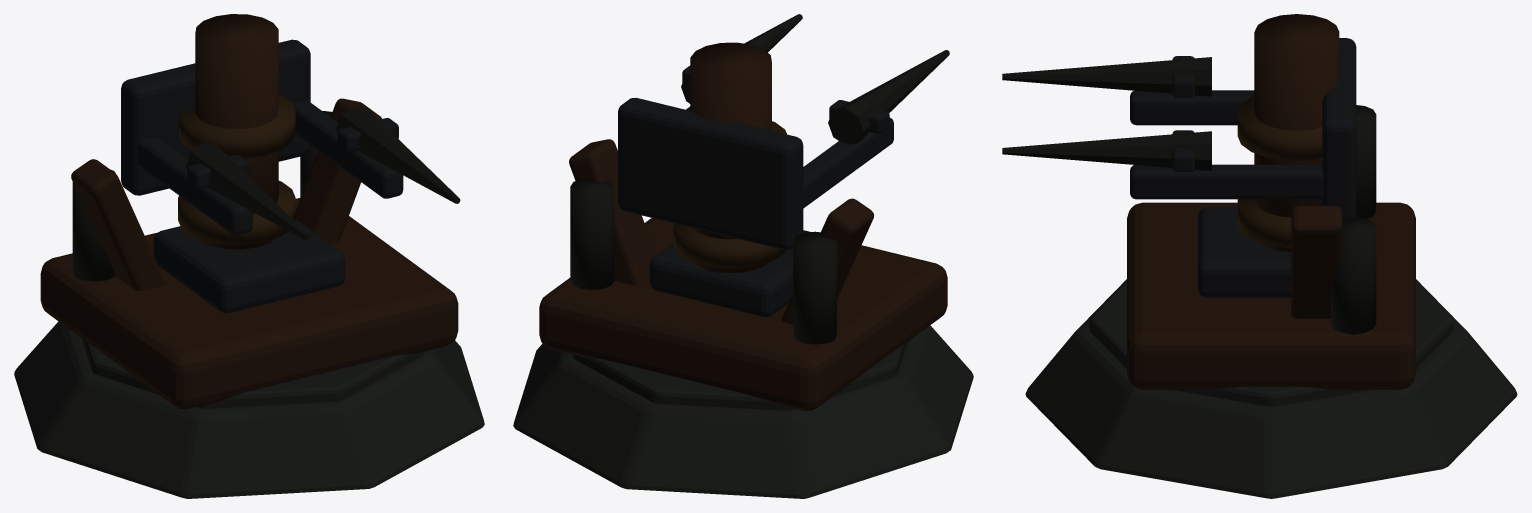
File: TowerAir2_pose.obj
3 renders of one model, left to right at view 1: azimuth 30°, elevation 25°; view 2: azimuth 150°, elevation 25°; view 3: azimuth 270°, elevation 25°, orthographic. The views are drawn at different scales.
Parts seen in each view (by area): view 1: cut_stone_socket_lower_course, oak_sky_platform, iron_mast_socket, oak_launch_mast, iron_wind_shroud, oak_angled_stay, cut_stone_socket_upper_course, oak_angled_stay.001, iron_sky_rail, bronze_guide_collar.001, iron_sky_rail.001, sky_lance.001 (+5 smaller); view 2: cut_stone_socket_lower_course, oak_sky_platform, iron_wind_shroud, oak_launch_mast, iron_mast_socket, cut_stone_socket_upper_course, reserve_lance_tube.001, reserve_lance_tube, oak_angled_stay.001, sky_lance, iron_sky_rail, bronze_guide_collar (+3 smaller); view 3: cut_stone_socket_lower_course, oak_sky_platform, oak_launch_mast, iron_sky_rail.001, iron_mast_socket, cut_stone_socket_upper_course, oak_angled_stay.001, iron_wind_shroud, reserve_lance_tube.001, sky_lance, sky_lance.001, iron_sky_rail (+5 smaller).
Part boxes in pixels (bbox=[...]): cut_stone_socket_lower_course: bbox=[14, 321, 484, 498]; oak_sky_platform: bbox=[40, 198, 458, 408]; iron_mast_socket: bbox=[153, 219, 345, 313]; oak_launch_mast: bbox=[195, 14, 278, 249]; iron_wind_shroud: bbox=[121, 39, 310, 195]; oak_angled_stay: bbox=[71, 159, 165, 290]; cut_stone_socket_upper_course: bbox=[81, 338, 423, 408]; oak_angled_stay.001: bbox=[295, 98, 381, 244]; iron_sky_rail: bbox=[137, 137, 252, 235]; bronze_guide_collar.001: bbox=[179, 94, 295, 158]; iron_sky_rail.001: bbox=[292, 100, 403, 198]; sky_lance.001: bbox=[336, 106, 460, 203]; cut_stone_socket_lower_course: bbox=[513, 325, 973, 498]; oak_sky_platform: bbox=[539, 218, 947, 410]; iron_wind_shroud: bbox=[618, 97, 803, 250]; oak_launch_mast: bbox=[690, 42, 771, 273]; iron_mast_socket: bbox=[649, 230, 810, 317]; cut_stone_socket_upper_course: bbox=[572, 342, 907, 410]; reserve_lance_tube.001: bbox=[570, 178, 614, 289]; reserve_lance_tube: bbox=[793, 231, 836, 344]; oak_angled_stay.001: bbox=[569, 139, 656, 285]; sky_lance: bbox=[828, 50, 949, 144]; iron_sky_rail: bbox=[803, 117, 893, 208]; bronze_guide_collar: bbox=[673, 223, 785, 268]; cut_stone_socket_lower_course: bbox=[1025, 279, 1517, 498]; oak_sky_platform: bbox=[1127, 202, 1415, 389]; oak_launch_mast: bbox=[1254, 14, 1339, 251]; iron_sky_rail.001: bbox=[1130, 164, 1323, 199]; iron_mast_socket: bbox=[1198, 207, 1291, 297]; cut_stone_socket_upper_course: bbox=[1089, 280, 1453, 406]; oak_angled_stay.001: bbox=[1291, 205, 1342, 318]; iron_wind_shroud: bbox=[1322, 38, 1356, 218]; reserve_lance_tube.001: bbox=[1331, 217, 1376, 334]; sky_lance: bbox=[1002, 57, 1211, 96]; sky_lance.001: bbox=[1002, 131, 1211, 170]; iron_sky_rail: bbox=[1130, 90, 1254, 125].
Size of the model in its own units: 1.74 by 1.42 by 1.82.
